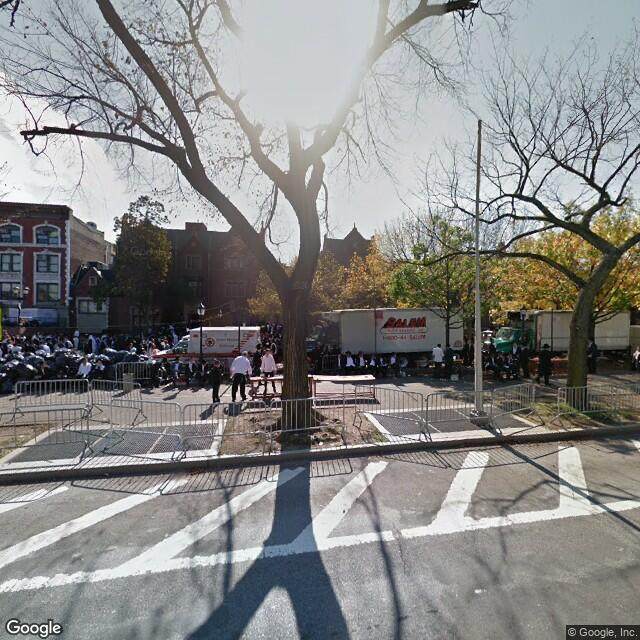litter: (318, 437, 328, 449), (100, 468, 113, 477), (307, 431, 315, 438)
